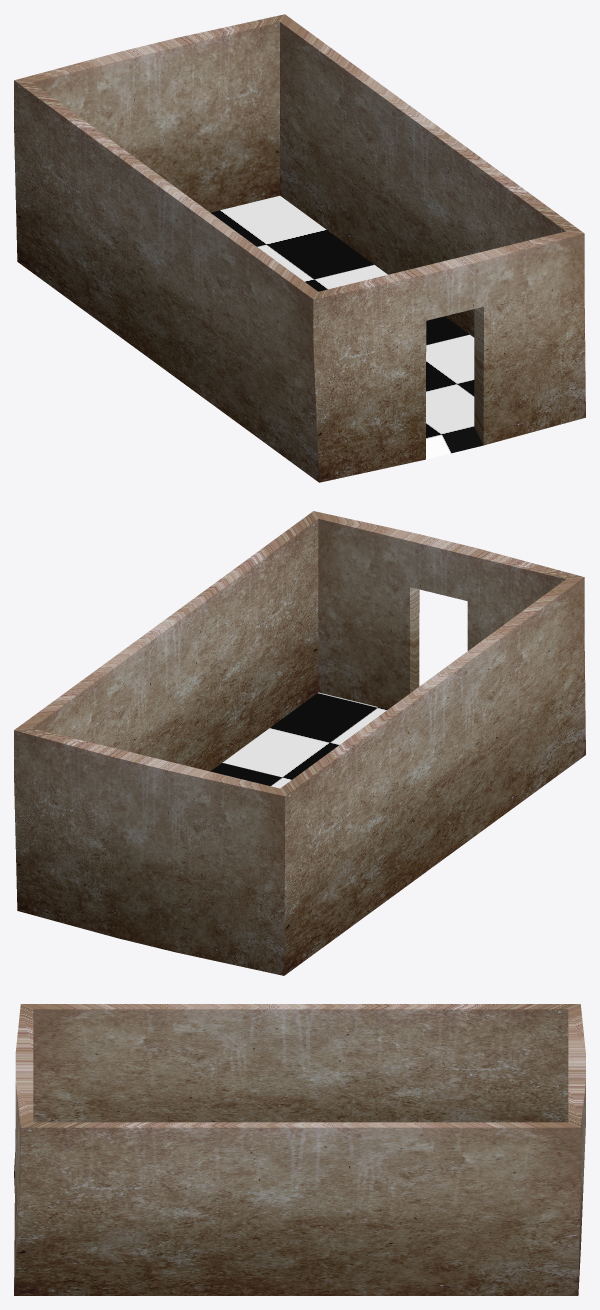
Rendered from sala_musica 1.FBX.
3 renders of one model, top to bottom at view 1: azimuth 30°, elevation 25°; view 2: azimuth 150°, elevation 25°; view 3: azimuth 270°, elevation 25°, orthographic. The views are drawn at different scales.
Visible parts, largest first — view 1: sala_musica_270cm; view 2: sala_musica_270cm; view 3: sala_musica_270cm.
Part boxes in pixels (box(x1,y1,x2,y2)): sala_musica_270cm: box(14, 14, 585, 482); sala_musica_270cm: box(14, 511, 585, 975); sala_musica_270cm: box(14, 1004, 585, 1295).
Bounding box in the file's own units: 174 × 113 × 339.
